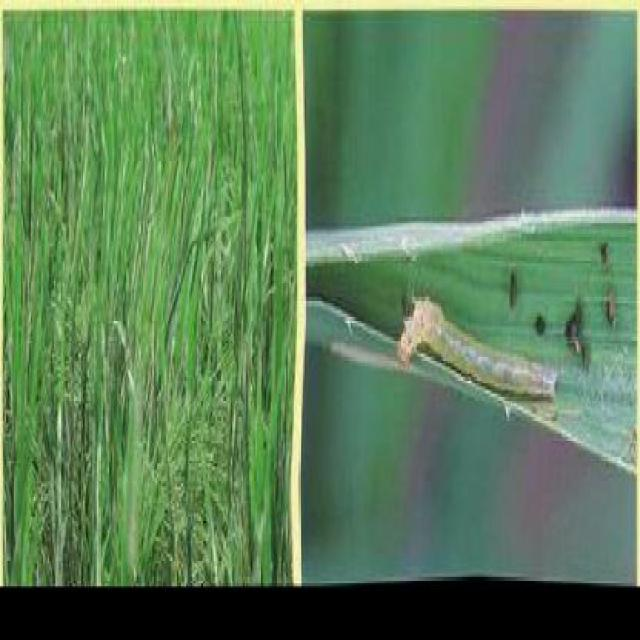leaf-folder: (388, 261, 574, 459)
